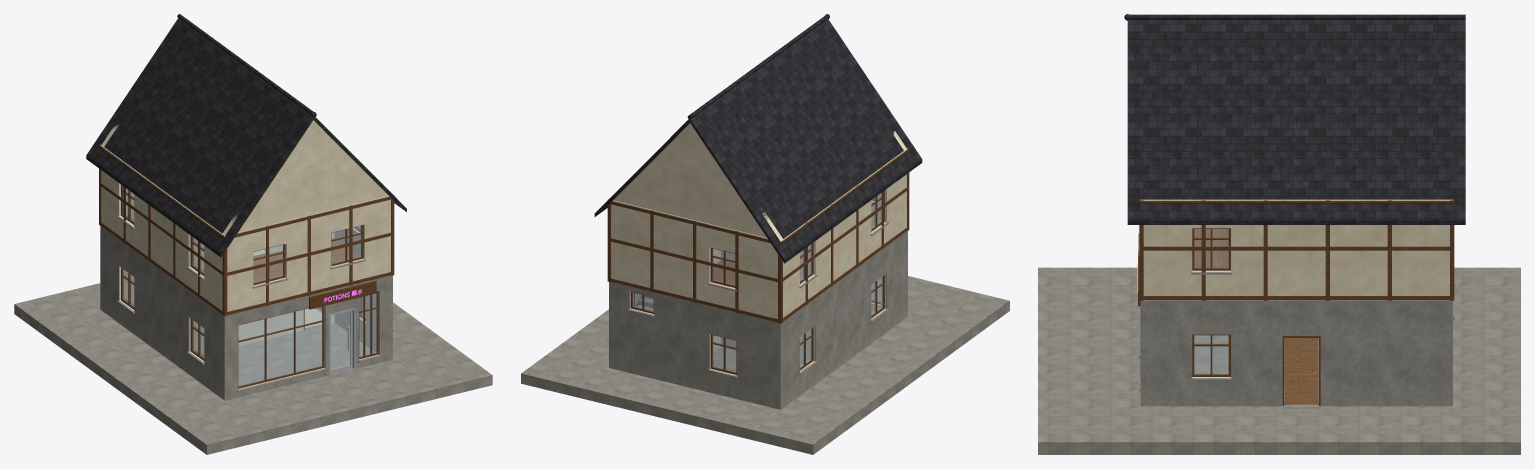
Rendered from b_potion_shop.gltf.
3 views of the same model, side by side, from view 1: azimuth 30°, elevation 25°; view 2: azimuth 150°, elevation 25°; view 3: azimuth 270°, elevation 25° (orthographic). The views are drawn at different scales.
Parts seen in each view (by area): view 1: S_potion_shop, D_potion_shop_F1_S2_Door0; view 2: S_potion_shop; view 3: S_potion_shop, D_potion_shop_F1_E1_Door0.
Part boxes in pixels (x1=…): S_potion_shop: x1=14, y1=14, x2=492, y2=454; D_potion_shop_F1_S2_Door0: x1=330, y1=310, x2=352, y2=372; S_potion_shop: x1=521, y1=14, x2=1009, y2=454; S_potion_shop: x1=1038, y1=14, x2=1520, y2=454; D_potion_shop_F1_E1_Door0: x1=1284, y1=338, x2=1318, y2=404.
Size of the model in its own units: 12 by 11.3 by 14.
Materials: 19 (11 with a texture image).
